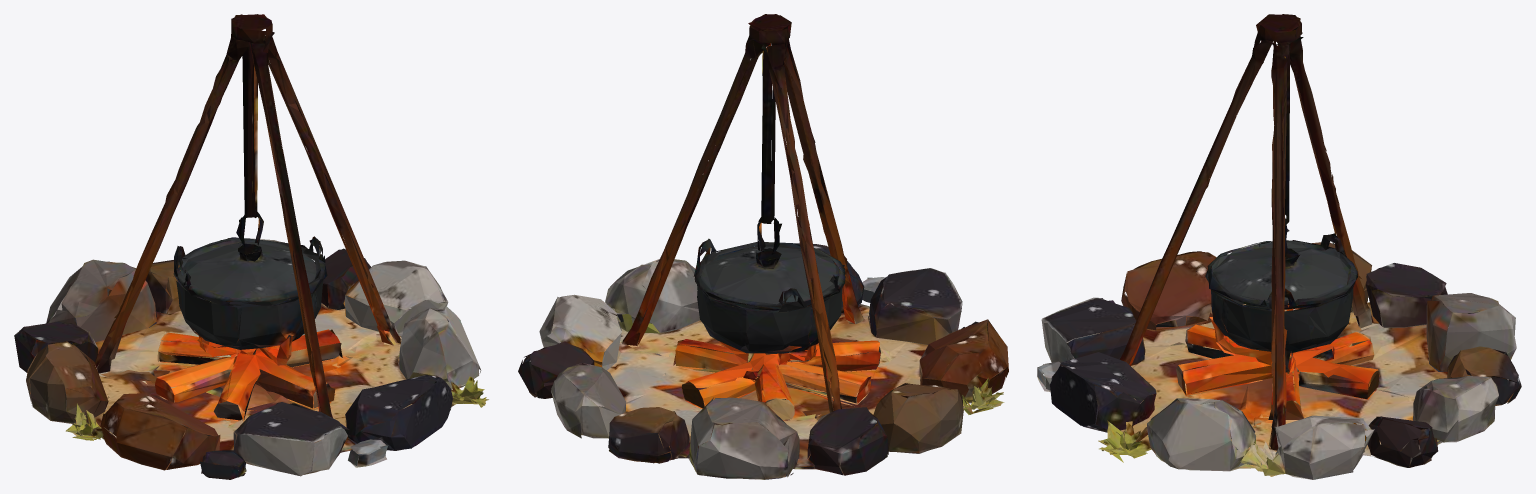
The model's file is campfire.glb.
The picture shows the model from 3 angles, left to right: view 1: azimuth 30°, elevation 25°; view 2: azimuth 150°, elevation 25°; view 3: azimuth 270°, elevation 25°; orthographic projection.
Visible parts, largest first — view 1: obj.obj; view 2: obj.obj; view 3: obj.obj.
Boxes of the visible parts, box(x1,y1,x2,y2) form: obj.obj: box(14, 14, 488, 479); obj.obj: box(518, 14, 1008, 479); obj.obj: box(1037, 14, 1521, 479).
Size of the model in its own units: 1.55 by 1.3 by 1.56.
Materials: 1 (1 with a texture image).
